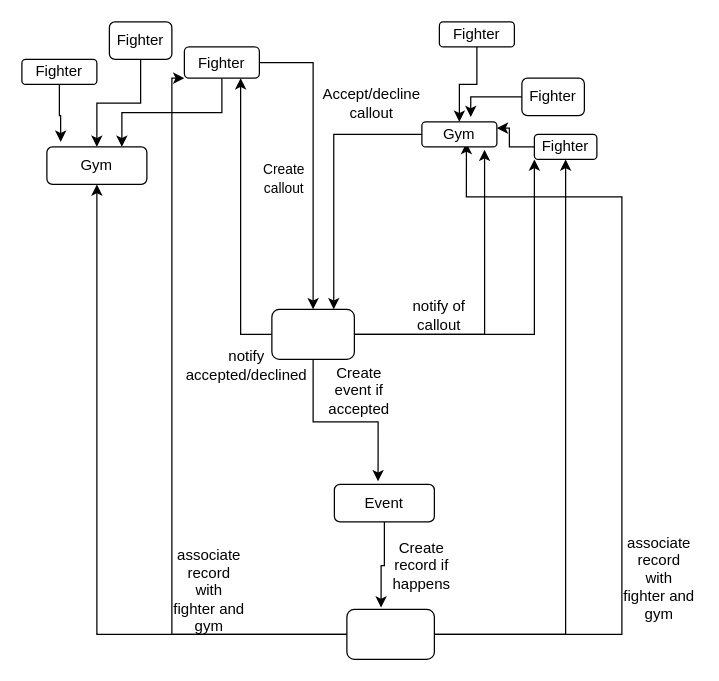
The diagram is 719 pixels wide and 681 high, and some of its shapes have lost their labels. The centre of each missing label's shape, as x and y in pixels:
"Callout" goes at point (312, 333).
"Record" goes at point (390, 633).
